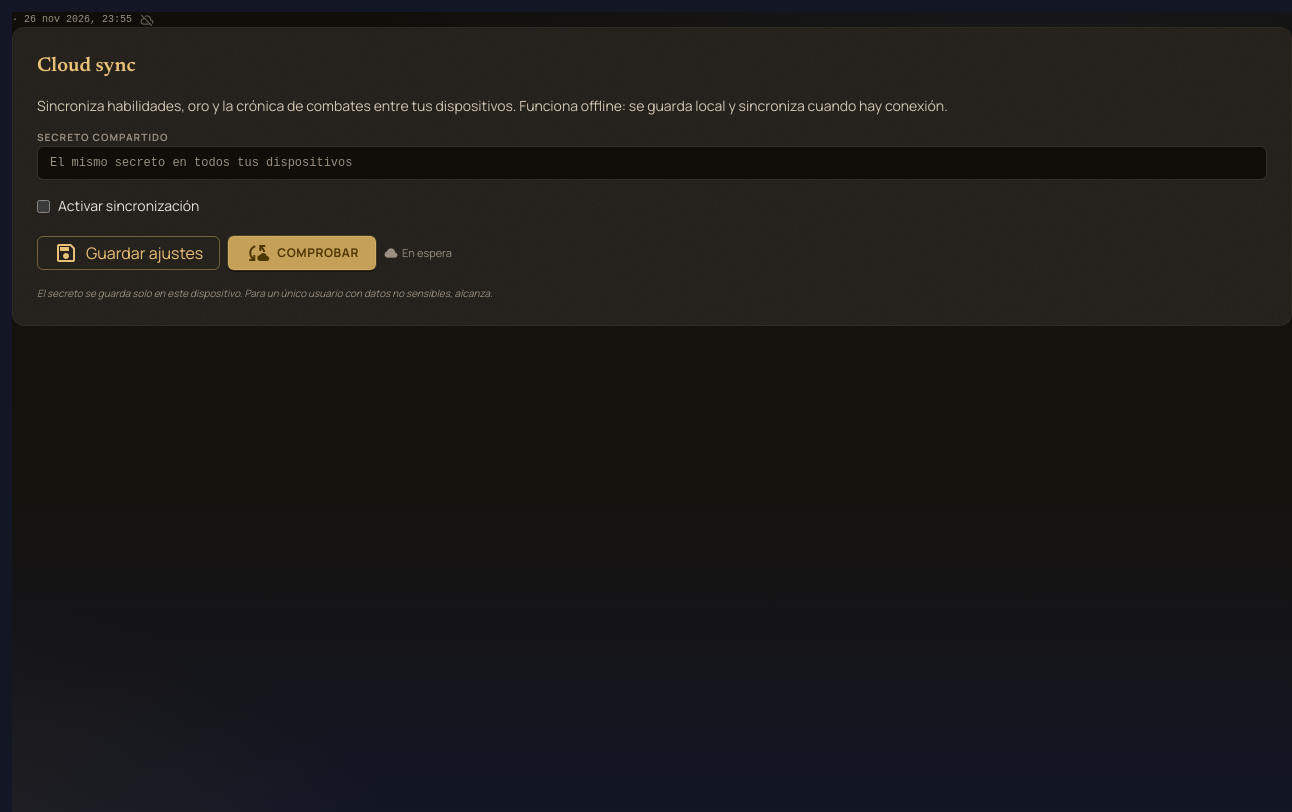
Test: HeaderStatus reacts to enabling sync in Settings › shows sync as active after typing the secret and ticking the box
The image size is (1292, 812).
expect the element named "Sincronización desactivada" is shown: met, box [140, 12, 154, 26]
In the password field with placeholder "El mismo secreto en todos tus dispositivos": (652, 163) [37, 146, 1267, 180], type "s3cret"
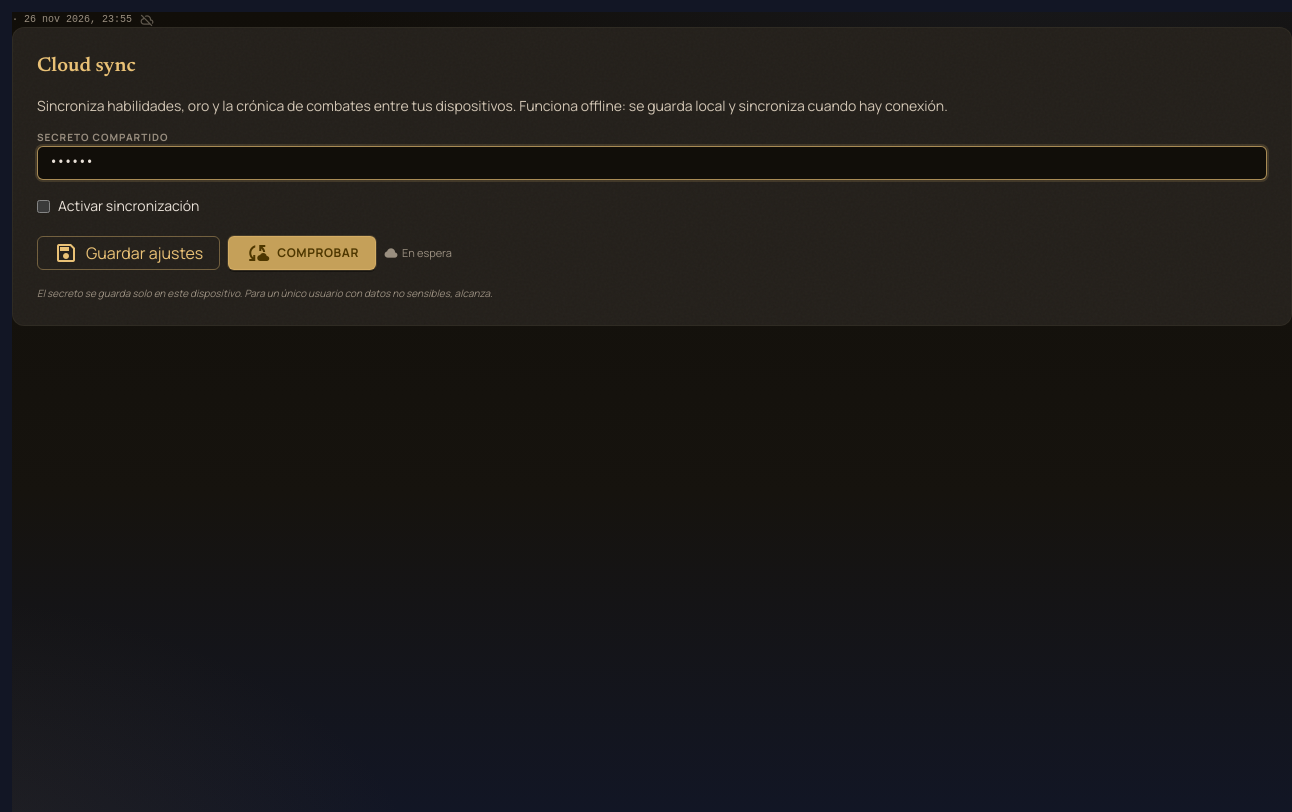
Click the checkbox labelled "Activar sincronización": (44, 206) [37, 200, 50, 212]
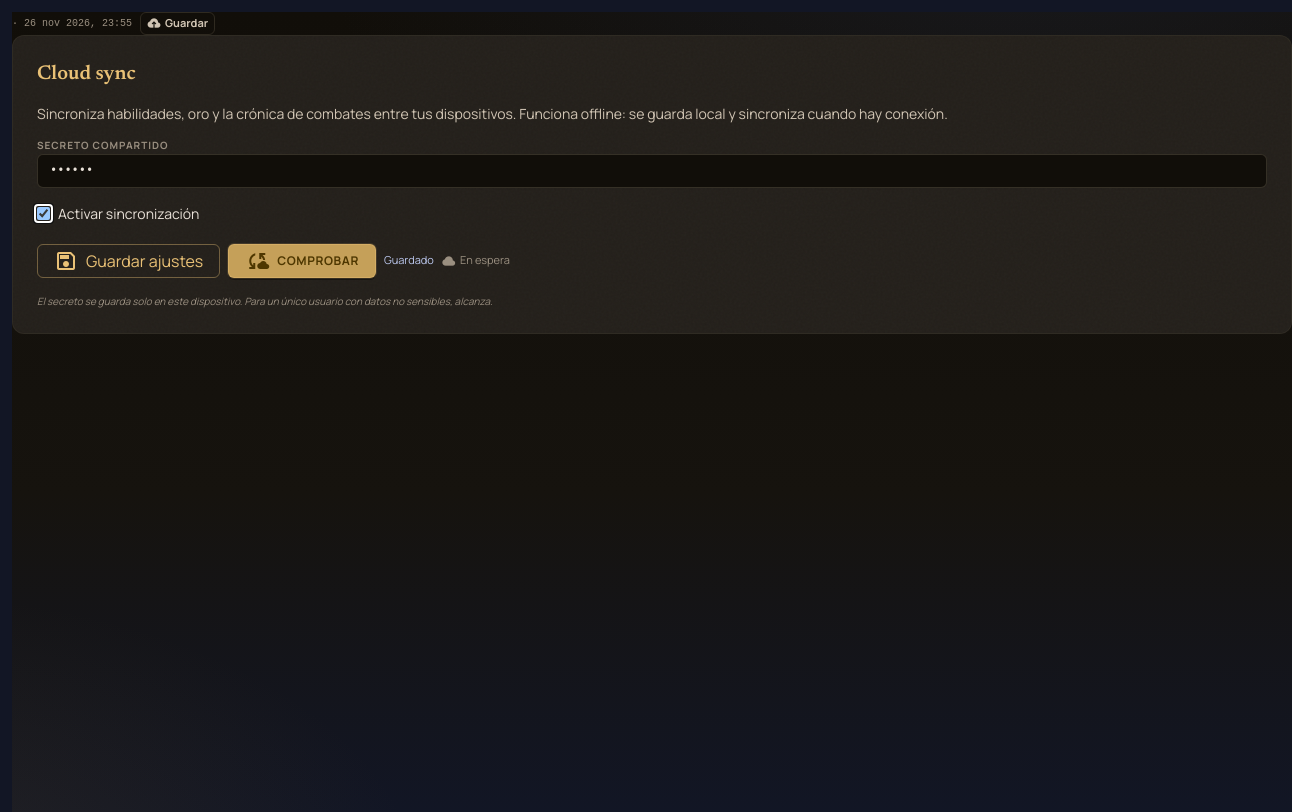
expect the button with aria-label "Subir los cambios locales a la nube" is shown: met, box [140, 12, 215, 34]
